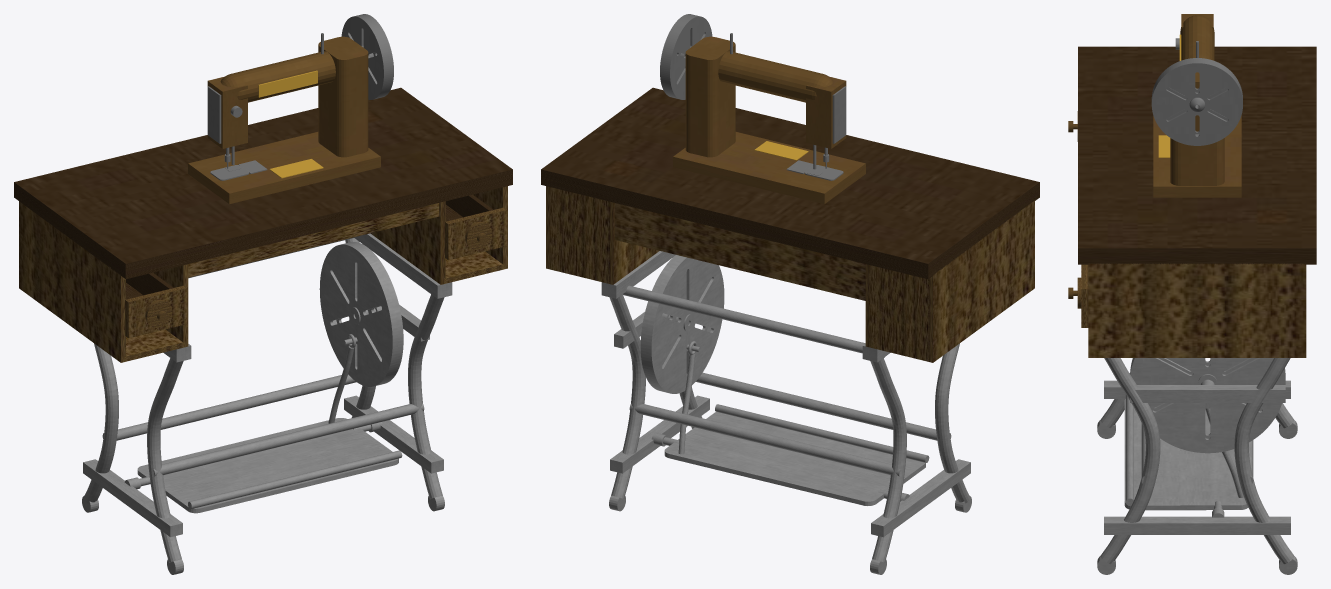
Rendered from sewing_machine__0002.glb.
3 views of the same model, side by side, from view 1: azimuth 30°, elevation 25°; view 2: azimuth 150°, elevation 25°; view 3: azimuth 270°, elevation 25° (orthographic). The views are drawn at different scales.
Visible parts, largest first — view 1: chassis::tabletop, chassis::left_cabinet_wall_0, treadle_pedal::pedal_plate, band_wheel::wheel, chassis::bed, chassis::pillar, chassis::side_frame_0, chassis::front_rail, chassis::side_frame_1, chassis::lower_brace_0, chassis::right_cabinet_wall_0, chassis::arm (+17 smaller); view 2: chassis::tabletop, treadle_pedal::pedal_plate, chassis::rear_apron, chassis::left_cabinet_wall_0, band_wheel::wheel, chassis::bed, chassis::pillar, chassis::side_frame_0, chassis::right_cabinet_back, chassis::left_cabinet_back, chassis::arm, chassis::lower_brace_1 (+11 smaller); view 3: chassis::tabletop, chassis::right_cabinet_wall_1, band_wheel::wheel, chassis::side_frame_1, handwheel::wheel, treadle_pedal::pedal_plate, chassis::bottom_rail_1, chassis::bed, chassis::pillar, chassis::wheel_support_bar, chassis::arm, chassis::side_frame_0 (+4 smaller).
Boxes of the visible parts, x1=… form: chassis::tabletop: x1=14, y1=87, x2=512, y2=278; chassis::left_cabinet_wall_0: x1=19, y1=201, x2=125, y2=362; treadle_pedal::pedal_plate: x1=137, y1=418, x2=398, y2=513; band_wheel::wheel: x1=319, y1=242, x2=403, y2=386; chassis::bed: x1=188, y1=132, x2=380, y2=203; chassis::pillar: x1=318, y1=36, x2=368, y2=157; chassis::side_frame_0: x1=82, y1=343, x2=183, y2=574; chassis::front_rail: x1=188, y1=203, x2=439, y2=277; chassis::side_frame_1: x1=345, y1=238, x2=444, y2=511; chassis::lower_brace_0: x1=153, y1=403, x2=424, y2=476; chassis::right_cabinet_wall_0: x1=370, y1=201, x2=445, y2=284; chassis::arm: x1=220, y1=51, x2=335, y2=102; chassis::tabletop: x1=541, y1=87, x2=1039, y2=278; treadle_pedal::pedal_plate: x1=664, y1=412, x2=925, y2=505; chassis::rear_apron: x1=614, y1=203, x2=865, y2=300; chassis::left_cabinet_wall_0: x1=928, y1=200, x2=1034, y2=362; band_wheel::wheel: x1=640, y1=255, x2=724, y2=393; chassis::bed: x1=673, y1=132, x2=865, y2=203; chassis::pillar: x1=685, y1=36, x2=735, y2=157; chassis::side_frame_0: x1=870, y1=343, x2=971, y2=574; chassis::right_cabinet_back: x1=549, y1=187, x2=609, y2=283; chassis::left_cabinet_back: x1=869, y1=265, x2=929, y2=361; chassis::arm: x1=718, y1=51, x2=833, y2=102; chassis::lower_brace_1: x1=629, y1=403, x2=900, y2=476; chassis::tabletop: x1=1078, y1=46, x2=1316, y2=264; chassis::right_cabinet_wall_1: x1=1088, y1=263, x2=1306, y2=357; band_wheel::wheel: x1=1130, y1=358, x2=1285, y2=453; chassis::side_frame_1: x1=1097, y1=358, x2=1297, y2=574; handwheel::wheel: x1=1151, y1=58, x2=1242, y2=145; treadle_pedal::pedal_plate: x1=1124, y1=399, x2=1248, y2=510; chassis::bottom_rail_1: x1=1104, y1=516, x2=1290, y2=534; chassis::bed: x1=1153, y1=115, x2=1241, y2=197; chassis::pillar: x1=1170, y1=72, x2=1224, y2=185; chassis::wheel_support_bar: x1=1130, y1=385, x2=1285, y2=402; chassis::arm: x1=1180, y1=15, x2=1214, y2=60; chassis::side_frame_0: x1=1097, y1=373, x2=1297, y2=438.
Bounding box in the file's own units: 0.92 × 1.06 × 0.479.
7 materials, 5 textured.
